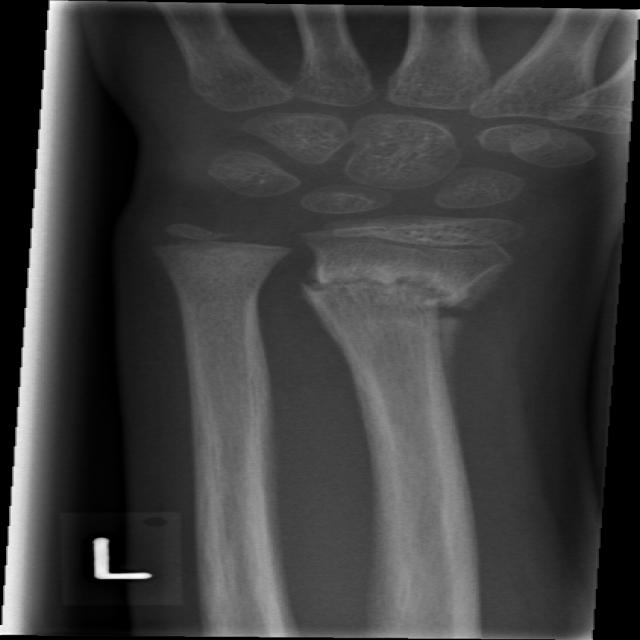radius fracture: (285, 248, 520, 398)
